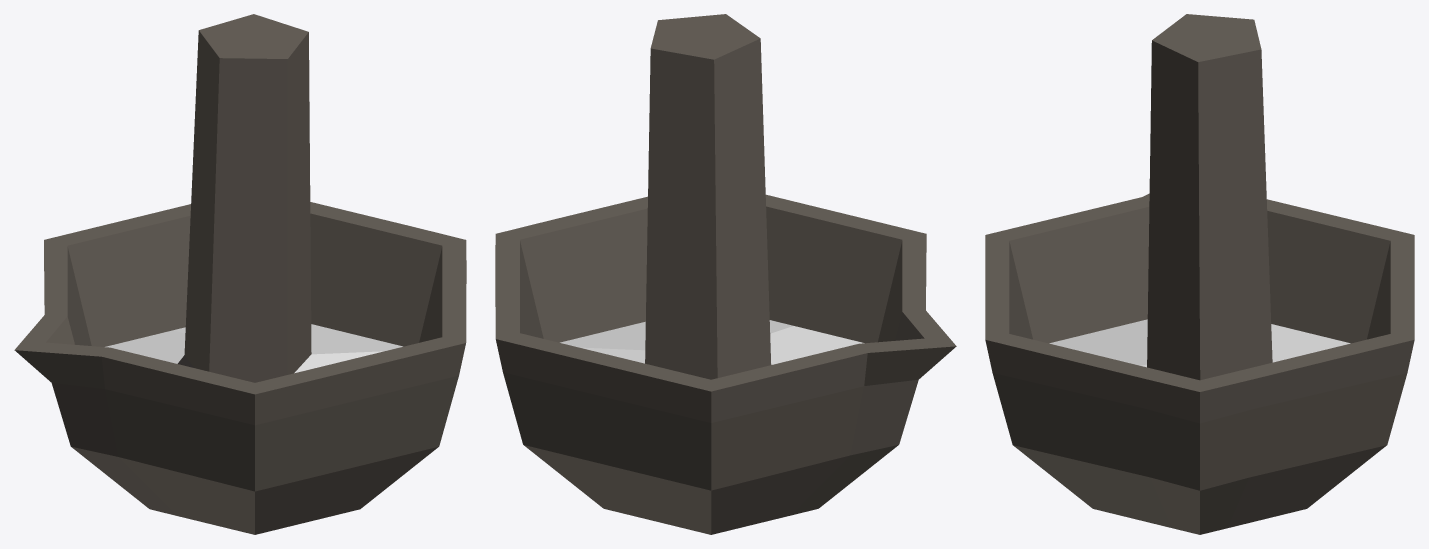
The model's file is SM_Mortar.fbx.
3 renders of one model, left to right at view 1: azimuth 30°, elevation 25°; view 2: azimuth 150°, elevation 25°; view 3: azimuth 270°, elevation 25°, orthographic. The views are drawn at different scales.
Parts seen in each view (by area): view 1: SM_Mortar, SM_Pounder, SM_Mortar_Substance; view 2: SM_Mortar, SM_Pounder, SM_Mortar_Substance; view 3: SM_Mortar, SM_Pounder, SM_Mortar_Substance.
Boxes of the visible parts, left/top/right/bottom form: SM_Mortar: left=14, top=202, right=466, bottom=534; SM_Pounder: left=177, top=14, right=311, bottom=382; SM_Mortar_Substance: left=105, top=324, right=402, bottom=373; SM_Mortar: left=495, top=194, right=956, bottom=534; SM_Pounder: left=645, top=14, right=771, bottom=379; SM_Mortar_Substance: left=560, top=320, right=864, bottom=364; SM_Mortar: left=985, top=193, right=1414, bottom=534; SM_Pounder: left=1147, top=14, right=1272, bottom=380; SM_Mortar_Substance: left=1049, top=319, right=1350, bottom=367.
Bounding box in the file's own units: 22.35 × 20.86 × 18.09.
